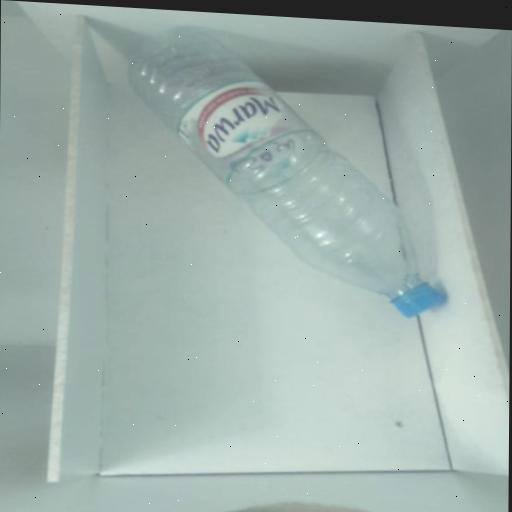ba: (112, 10, 470, 331)
